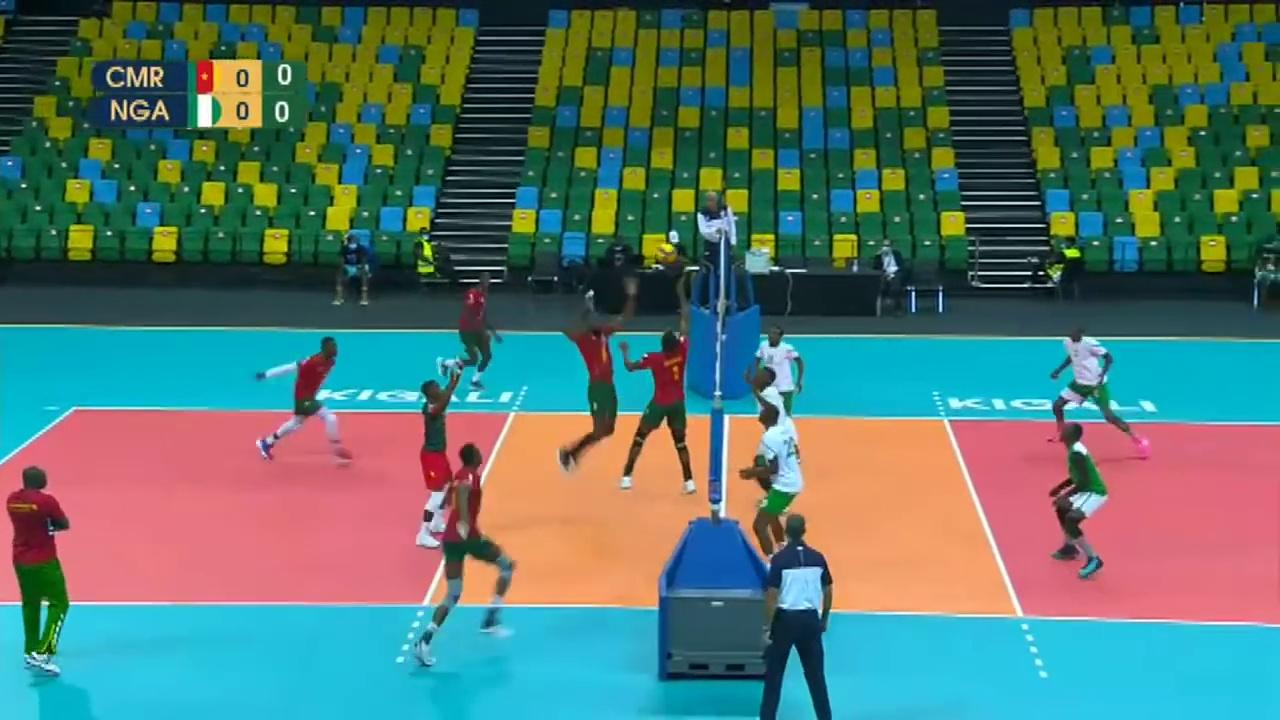player: (394, 440, 519, 670), (561, 281, 635, 480), (612, 321, 695, 494), (1048, 328, 1158, 447), (257, 339, 353, 464), (746, 403, 810, 565), (408, 370, 466, 546), (1050, 422, 1113, 574), (751, 321, 804, 464), (438, 281, 498, 403), (752, 367, 801, 516)
refree: (755, 510, 833, 720), (697, 188, 736, 289)
